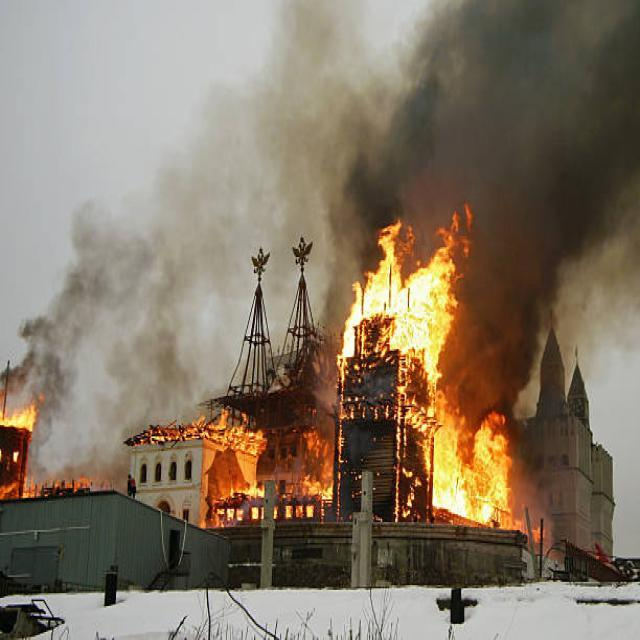Fire: (361, 219, 512, 523), (206, 400, 335, 506), (0, 388, 48, 485)
Smoke: (362, 0, 640, 342), (246, 8, 376, 368), (78, 178, 214, 426), (448, 234, 532, 424)
